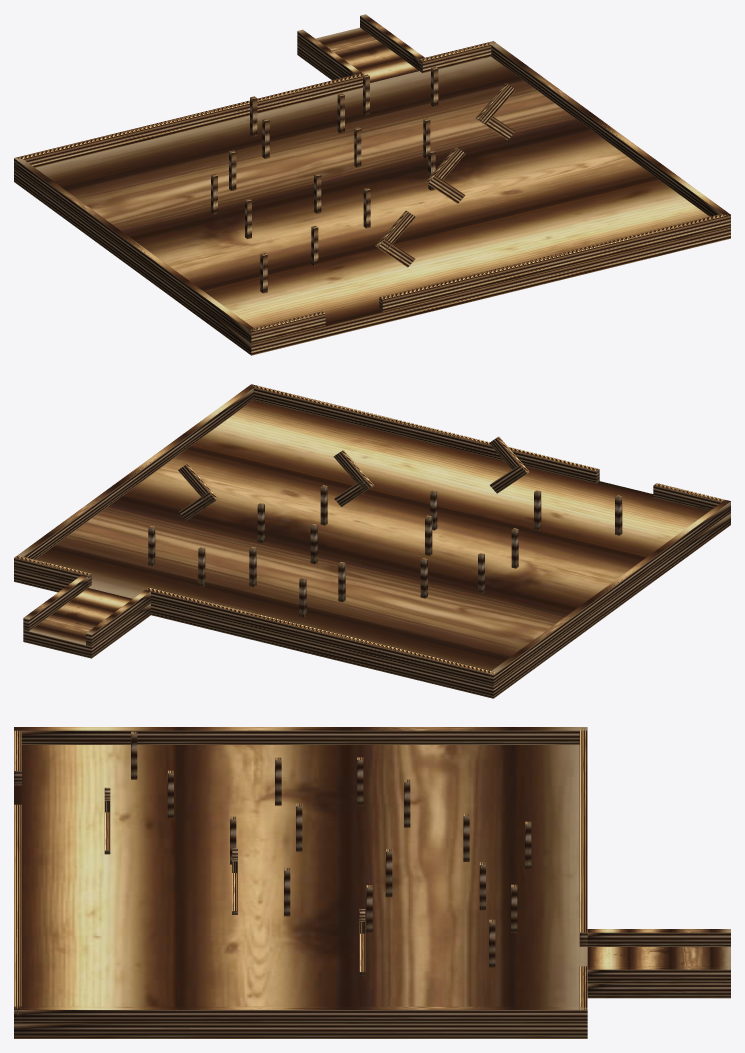
Rendered from H - Floor 1.obj.
The picture shows the model from 3 angles, top to bottom: view 1: azimuth 30°, elevation 25°; view 2: azimuth 150°, elevation 25°; view 3: azimuth 270°, elevation 25°; orthographic projection. The views are drawn at different scales.
Parts seen in each view (by area): view 1: polySurface32; view 2: polySurface32; view 3: polySurface32.
Boxes of the visible parts, box(x1,y1,x2,y2) form: polySurface32: box(14, 14, 730, 355); polySurface32: box(14, 384, 730, 698); polySurface32: box(14, 727, 730, 1038).
Size of the model in its own units: 2940 by 402 by 3150.
